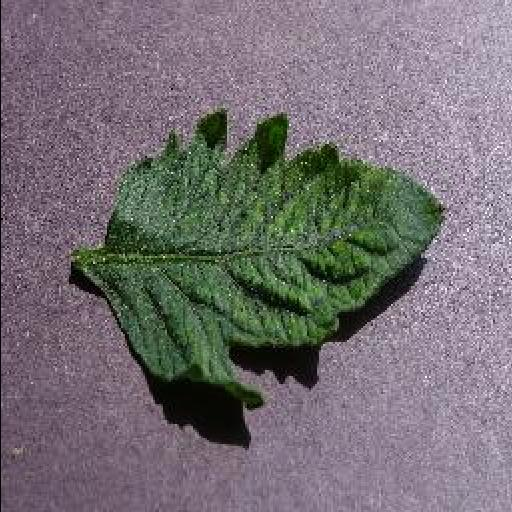Mosaic Virus: (77, 111, 451, 409)
